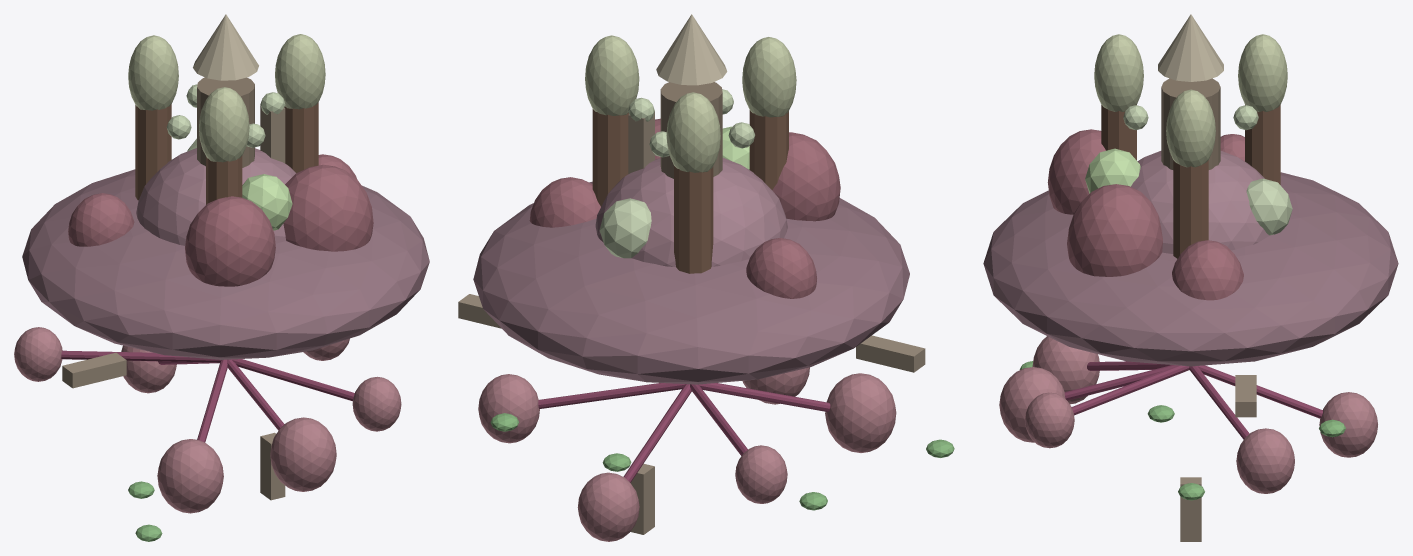
Rendered from zglengo_skyspore_sentinel.glb.
The picture shows the model from 3 angles, left to right: view 1: azimuth 30°, elevation 25°; view 2: azimuth 150°, elevation 25°; view 3: azimuth 270°, elevation 25°; orthographic projection. The views are drawn at different scales.
Parts seen in each view (by area): view 1: base_mound, breathe_sac_2, breathe_sac_3, body, bubo_5, bubo_2, spore_sac_1, spore_sac_2, spore_sac_0, breathe_sac_0, chimney_tip, spore_tube_2 (+15 smaller); view 2: base_mound, body, bubo_2, breathe_sac_2, spore_tube_2, spore_sac_1, spore_sac_2, spore_sac_0, bubo_4, breathe_sac_0, bubo_1, chimney_tip (+16 smaller); view 3: base_mound, breathe_sac_3, body, breathe_sac_1, spore_sac_0, spore_sac_2, spore_sac_1, breathe_sac_2, bubo_1, spore_tube_0, bubo_4, chimney_tip (+18 smaller).
Part boxes in pixels (<box>): base_mound: <box>22,169,429,359</box>; breathe_sac_2: <box>185,196,275,286</box>; breathe_sac_3: <box>283,164,373,251</box>; body: <box>136,148,295,245</box>; bubo_5: <box>270,417,336,491</box>; bubo_2: <box>157,439,223,513</box>; spore_sac_1: <box>199,87,249,162</box>; spore_sac_2: <box>128,35,178,110</box>; spore_sac_0: <box>275,34,325,109</box>; breathe_sac_0: <box>68,193,134,246</box>; chimney_tip: <box>193,14,258,80</box>; spore_tube_2: <box>135,104,171,200</box>; base_mound: <box>473,181,909,384</box>; body: <box>595,158,787,266</box>; bubo_2: <box>825,373,896,452</box>; breathe_sac_2: <box>772,132,840,221</box>; spore_tube_2: <box>674,166,713,273</box>; spore_sac_1: <box>742,37,796,117</box>; spore_sac_2: <box>666,92,720,172</box>; spore_sac_0: <box>585,35,639,115</box>; bubo_4: <box>577,472,639,541</box>; breathe_sac_0: <box>746,238,816,298</box>; bubo_1: <box>478,374,539,443</box>; chimney_tip: <box>656,14,727,85</box>; base_mound: <box>983,172,1398,366</box>; breathe_sac_3: <box>1067,184,1162,276</box>; body: <box>1131,151,1269,253</box>; breathe_sac_1: <box>1172,240,1243,300</box>; spore_sac_0: <box>1166,89,1215,167</box>; spore_sac_2: <box>1238,34,1287,111</box>; spore_sac_1: <box>1094,34,1143,111</box>; breathe_sac_2: <box>1047,129,1105,214</box>; bubo_1: <box>1236,428,1294,493</box>; spore_tube_0: <box>1173,160,1208,258</box>; bubo_4: <box>1319,392,1377,457</box>; chimney_tip: <box>1158,14,1223,81</box>.
Bounding box in the file's own units: 2.06 × 2.61 × 1.96.
